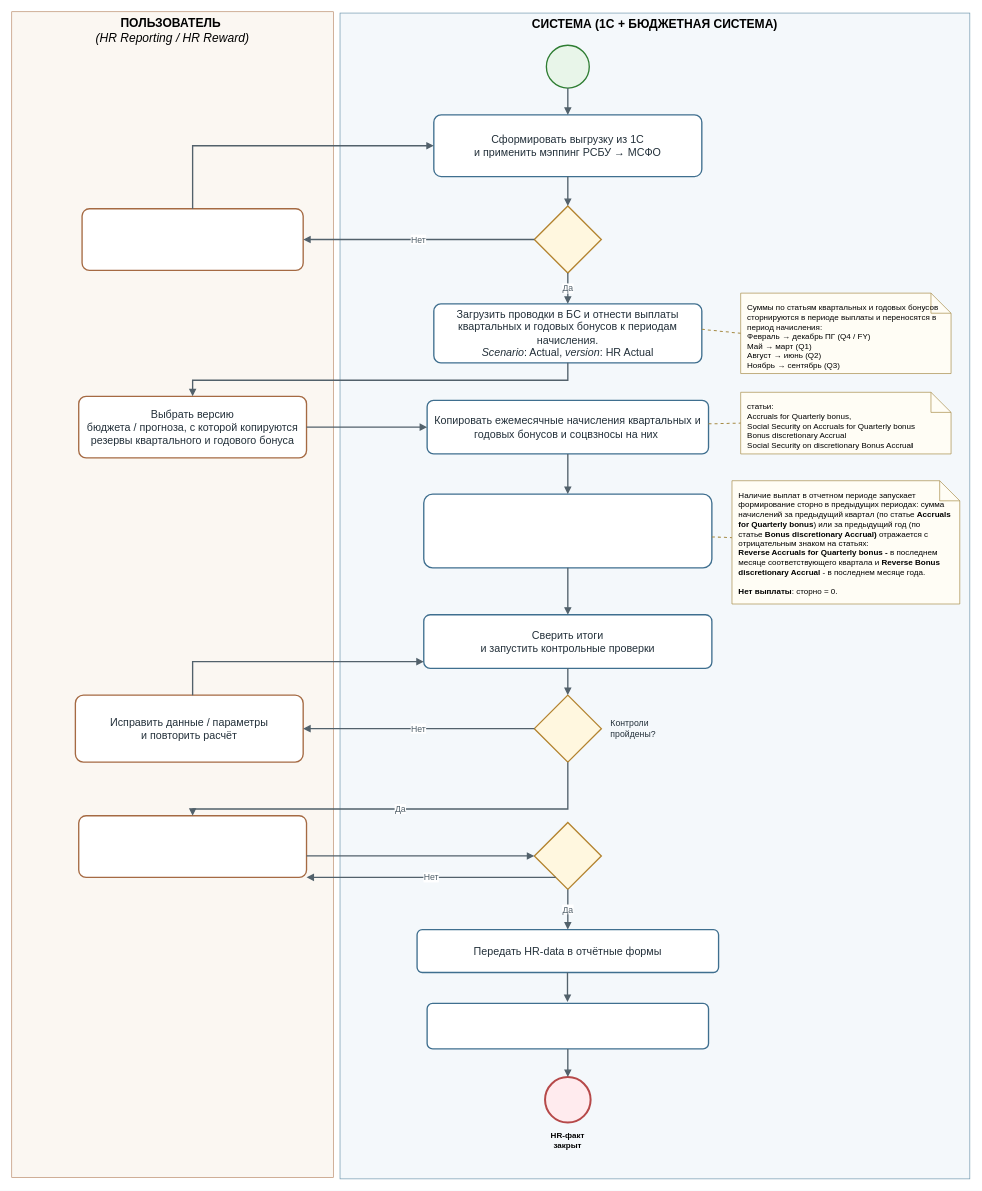
The diagram is 982 pixels wide and 1191 high, and some of its shapes have lost their labels. Here are the shapes that lost their labels. From the top down, the centre of each, then its label:
At [567,66]: "5-й раб. день месяца".
At [192,239]: "Исправить мэппинг или исходные данные".
At [567,239]: "Мэппинг и контрольные суммы в порядке?".
At [567,530]: "Сформировать сторно резервов квартальных и годовых бонусов".
At [192,846]: "Проверить и утвердить HR Actual".
At [567,855]: "HR Actual утверждён?".
At [567,1025]: "Зафиксировать версию и уведомить участников".
